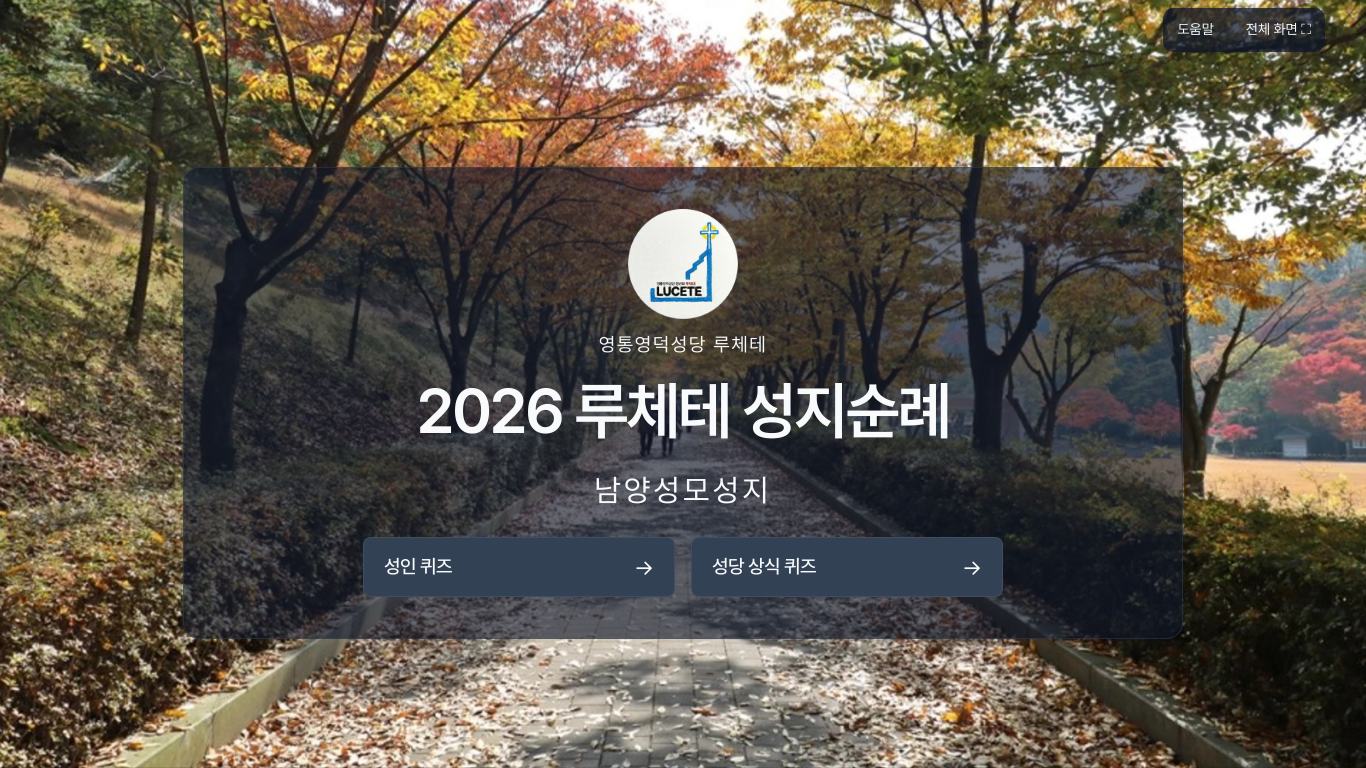
Test case: presenter flow › retains the poster and quiz controls on a video load error
The width and height of the screenshot is (1366, 768).
Click the button "성인 퀴즈 →". click: (418,566)
box: [363,537,675,598]
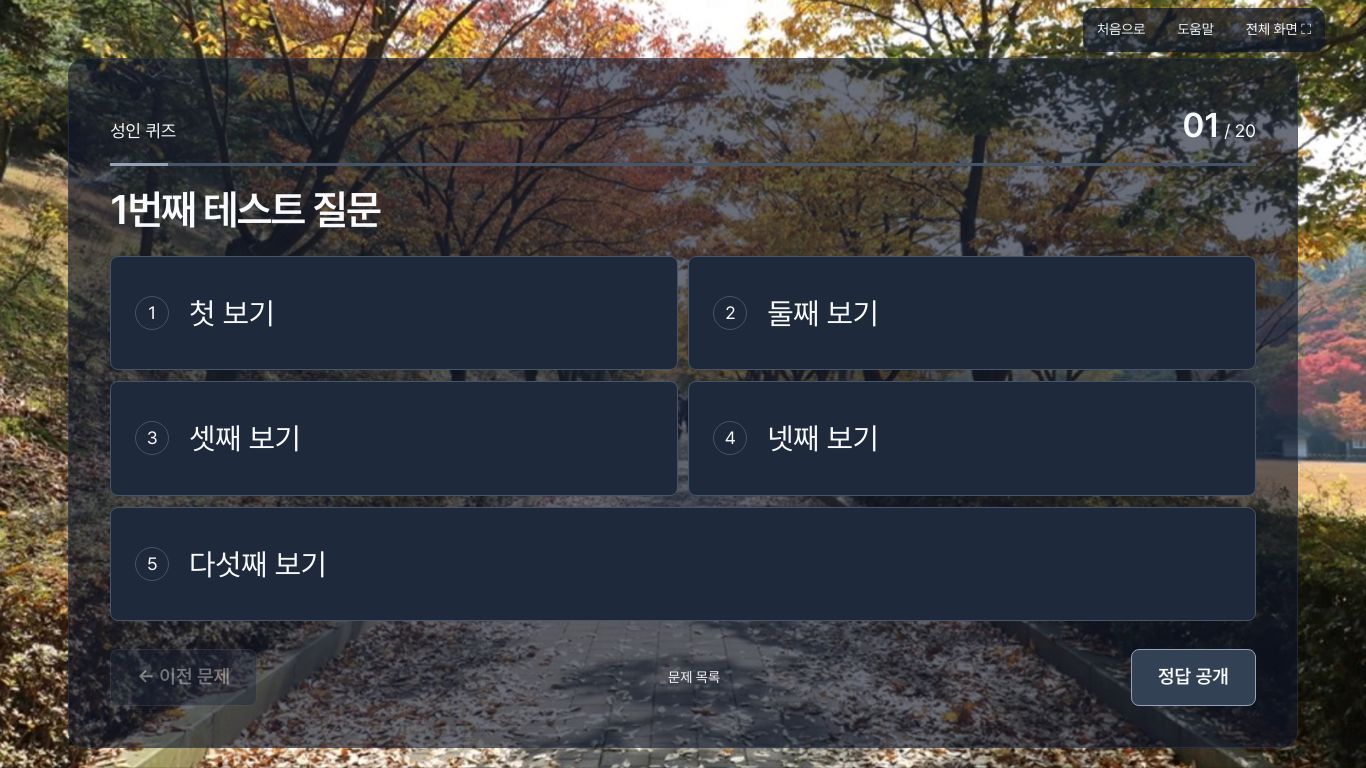
Click the button "정답 공개". click: (1193,678)
box: [1131,649,1256,706]
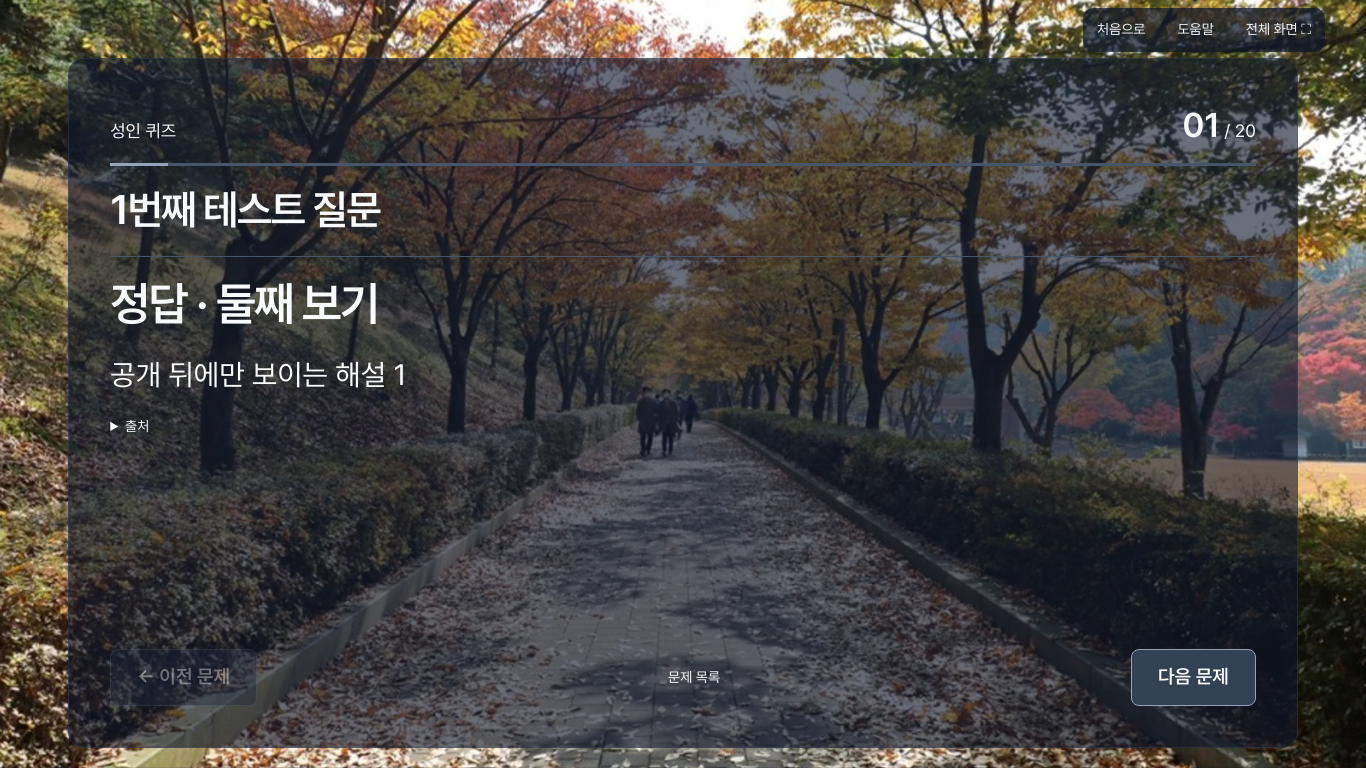
Expected: the text "공개 뒤에만 보이는 해설 1" is shown, [110,356,406,392]
